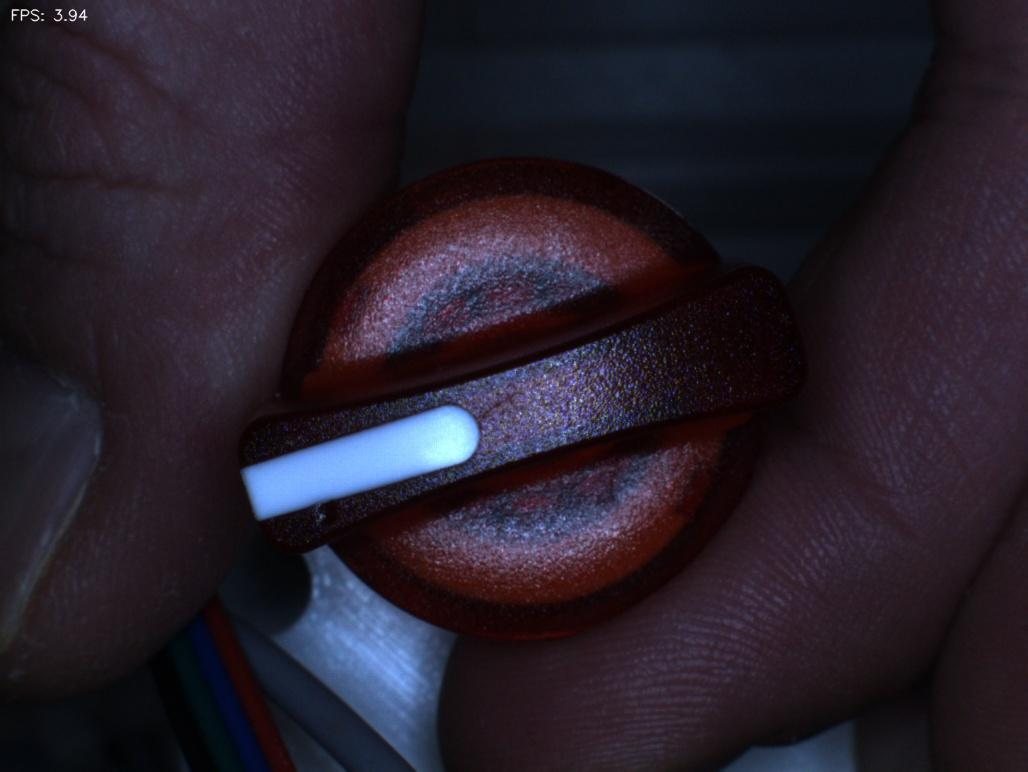Choc: (290, 483, 369, 561)
